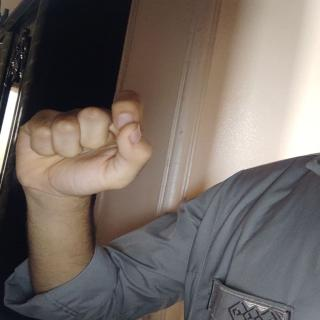FAA: (5, 85, 158, 209)
